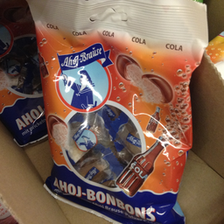candy: (33, 1, 204, 220)
